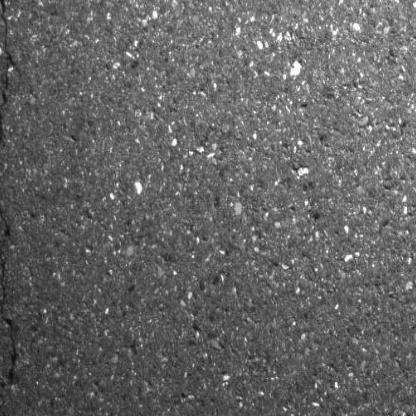Cracks: (0, 0, 24, 416)
